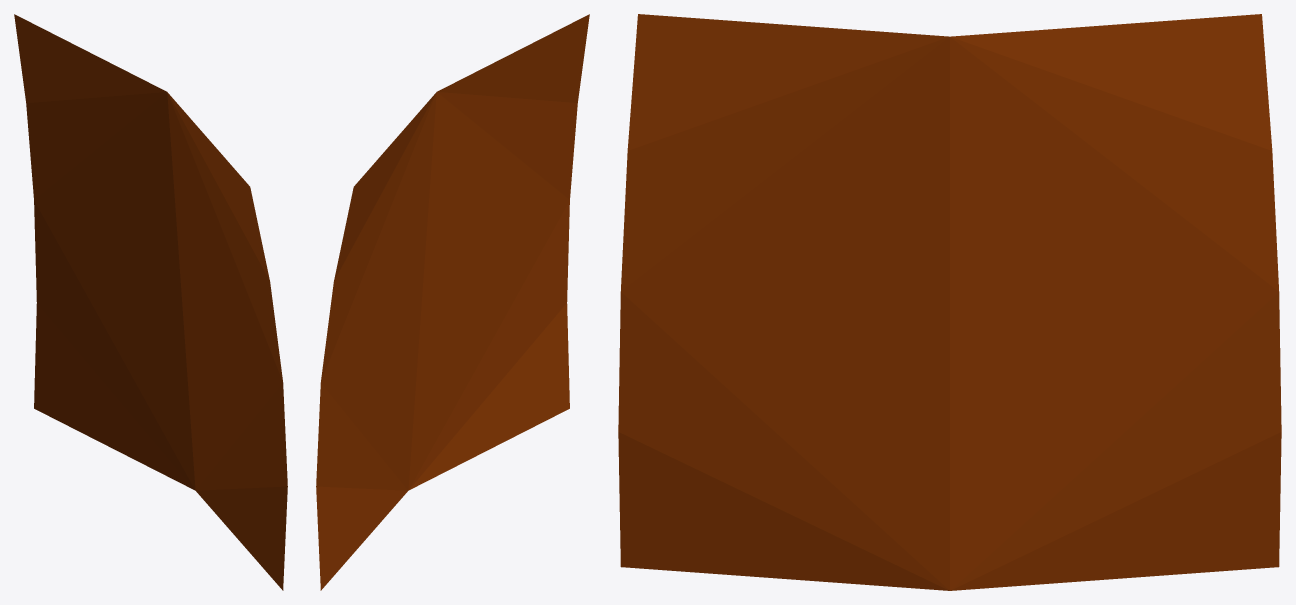
File: BarrelDoor.fbx
The picture shows the model from 3 angles, left to right: view 1: azimuth 30°, elevation 25°; view 2: azimuth 150°, elevation 25°; view 3: azimuth 270°, elevation 25°; orthographic projection. The views are drawn at different scales.
Parts seen in each view (by area): view 1: BarrilPorta; view 2: BarrilPorta; view 3: BarrilPorta.
Boxes of the visible parts, x1=… form: BarrilPorta: x1=14, y1=14, x2=287, y2=590; BarrilPorta: x1=316, y1=14, x2=589, y2=590; BarrilPorta: x1=618, y1=14, x2=1281, y2=590.
Bounding box in the file's own units: 24.52 × 150 × 168.
